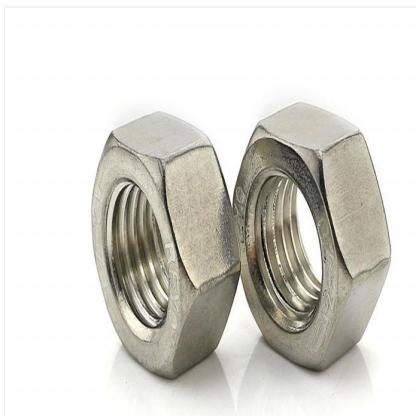FOD: (228, 100, 395, 377), (89, 109, 243, 380)
